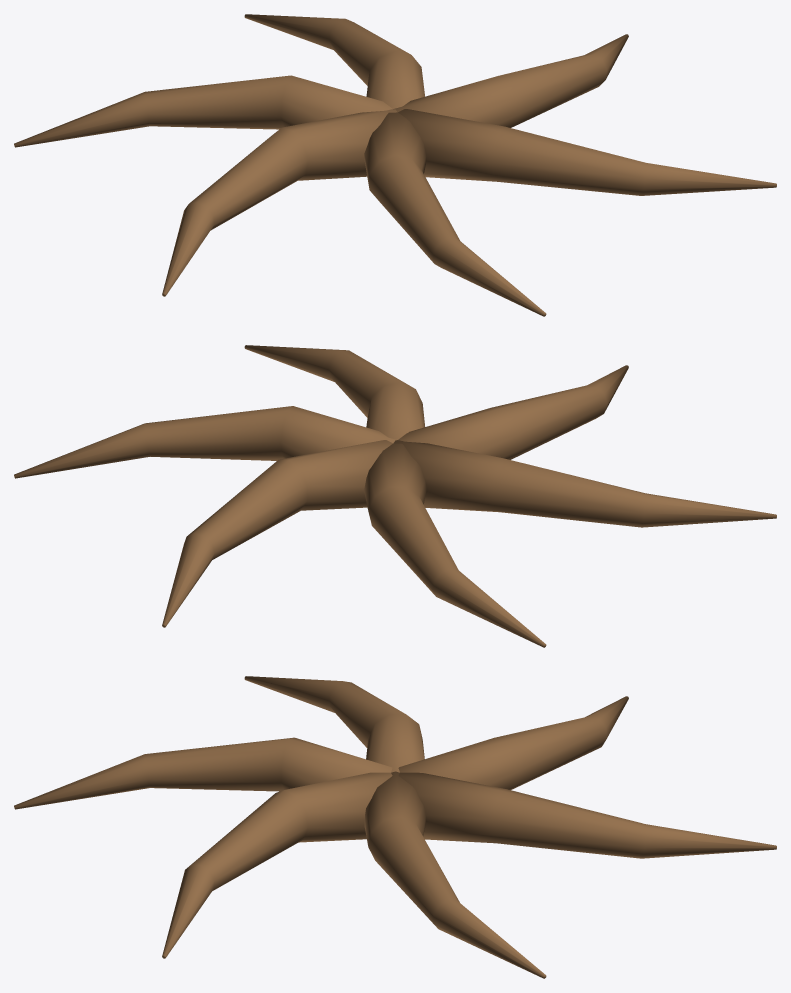
The model's file is ExposedRoots.fbx.
3 renders of one model, top to bottom at view 1: azimuth 30°, elevation 25°; view 2: azimuth 150°, elevation 25°; view 3: azimuth 270°, elevation 25°, orthographic.
Visible parts, largest first — view 1: ExposedRoots_Wood; view 2: ExposedRoots_Wood; view 3: ExposedRoots_Wood.
Part boxes in pixels (x1=…): ExposedRoots_Wood: x1=14, y1=14, x2=776, y2=316; ExposedRoots_Wood: x1=14, y1=345, x2=776, y2=647; ExposedRoots_Wood: x1=14, y1=676, x2=776, y2=978.
Size of the model in its own units: 407 by 43.87 by 437.
